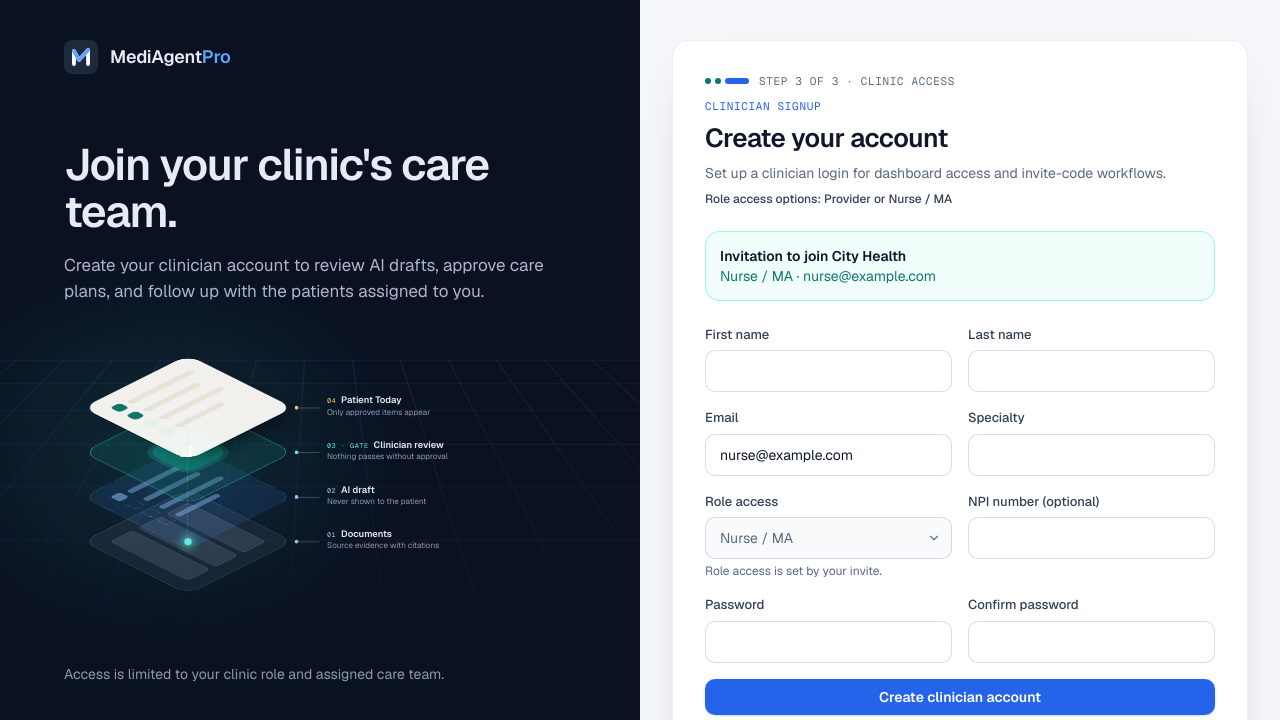
Test: Clinician signup page › keeps a created account when the claim is still pending
Expected: the text "Invitation to join City Health" is shown, [720, 246, 906, 264]
Type "Ana" into the field labelled "First name" at point(828, 371), box [705, 350, 952, 392]
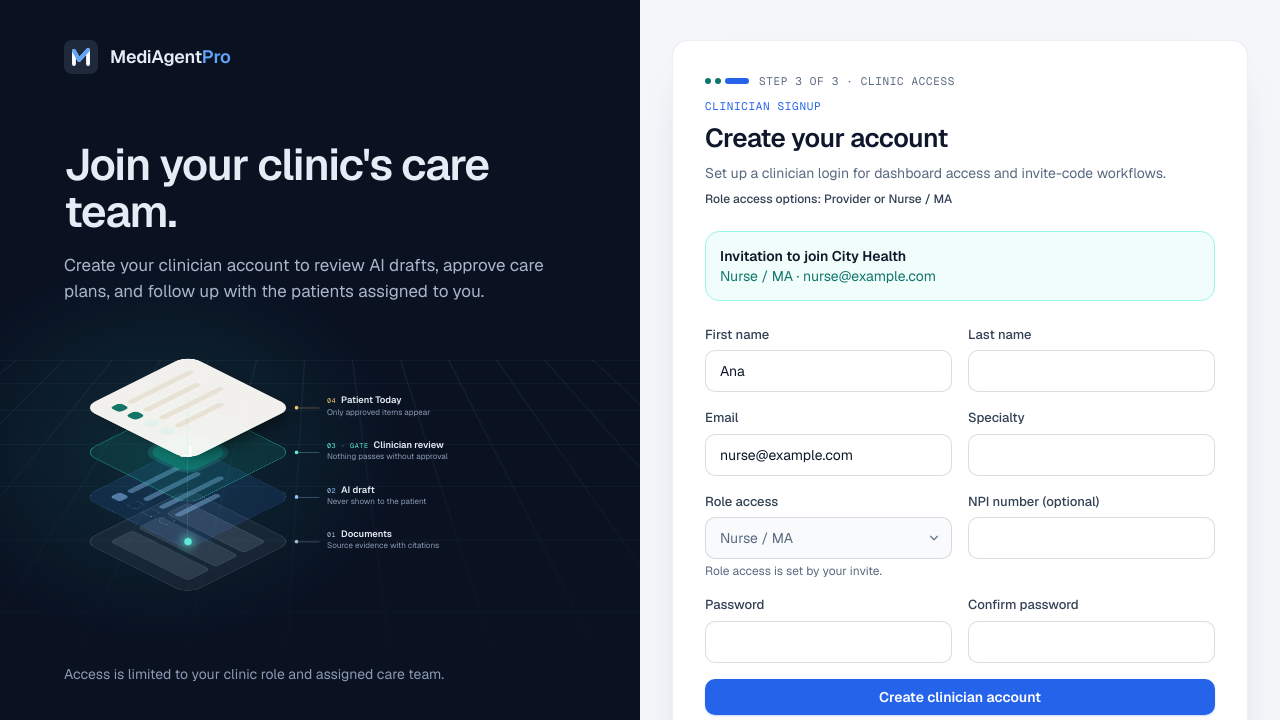
Type "Ruiz" into the field labelled "Last name" at point(1092, 371), box [968, 350, 1215, 392]
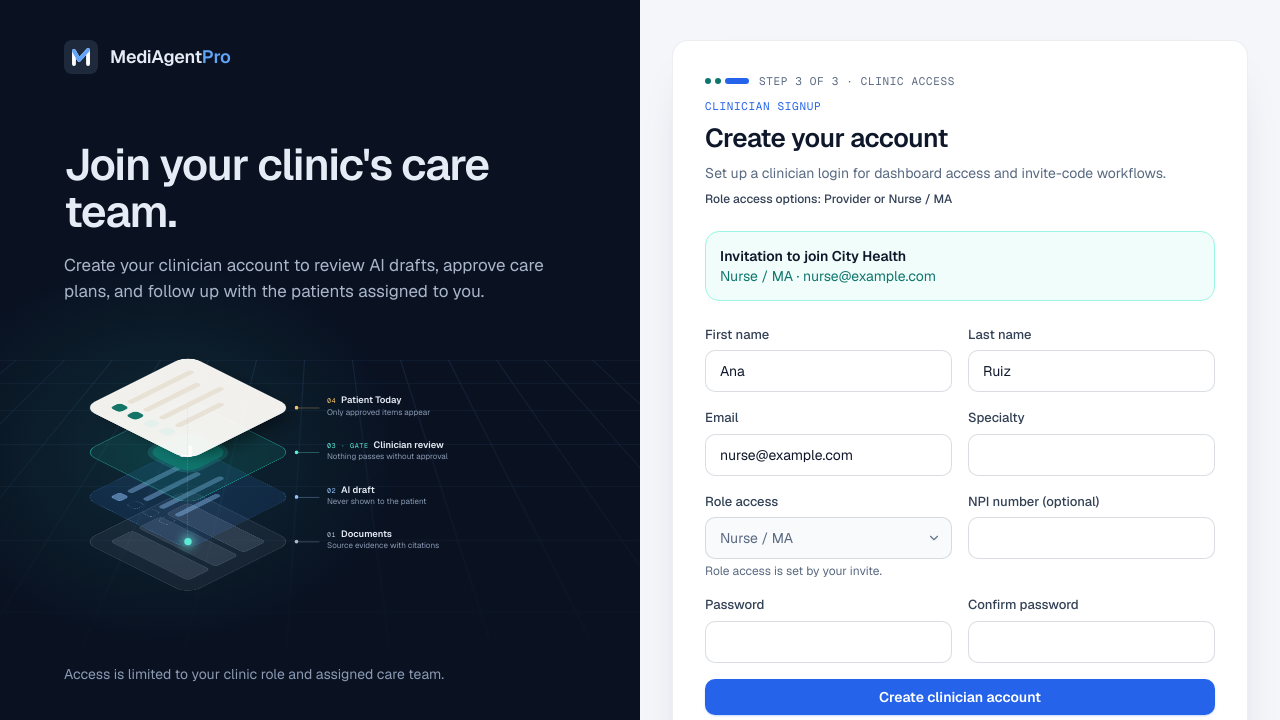
Type "Primary Care" into the field labelled "Specialty" at point(1092, 454), box [968, 434, 1215, 476]
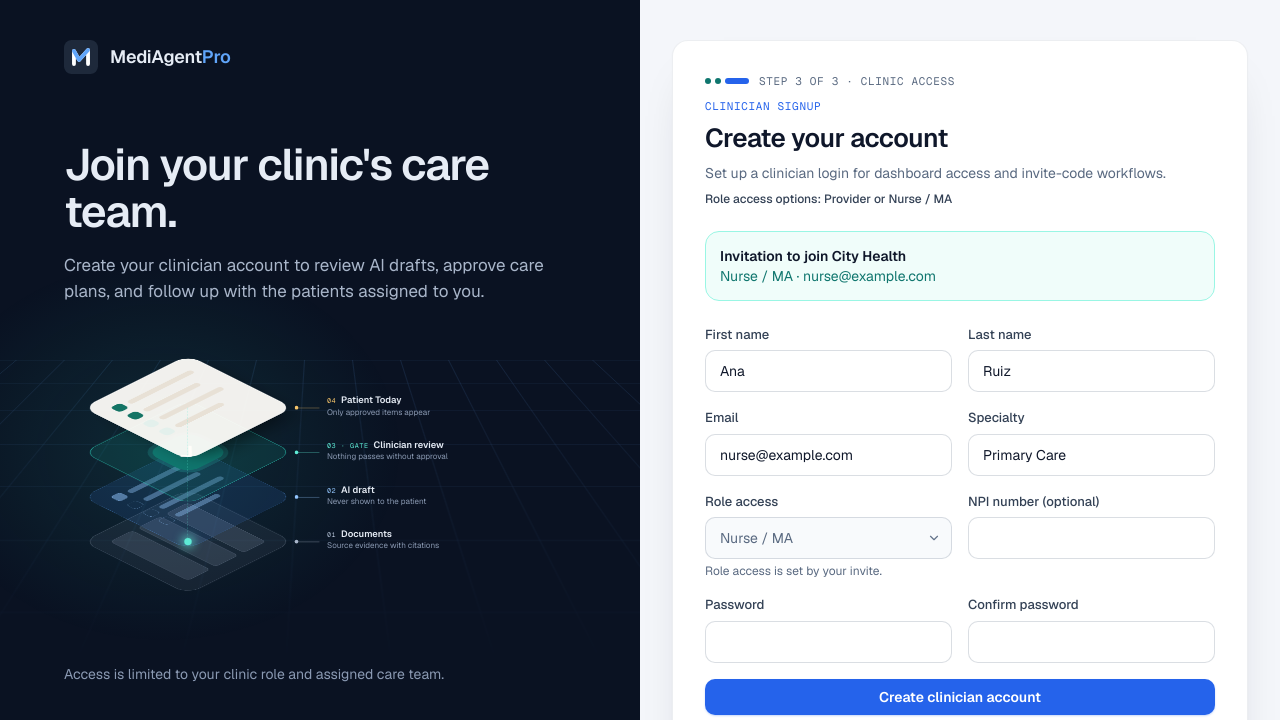
Type "SecurePass123!" into the password field labelled "Password" at point(828, 642), box [705, 620, 952, 662]
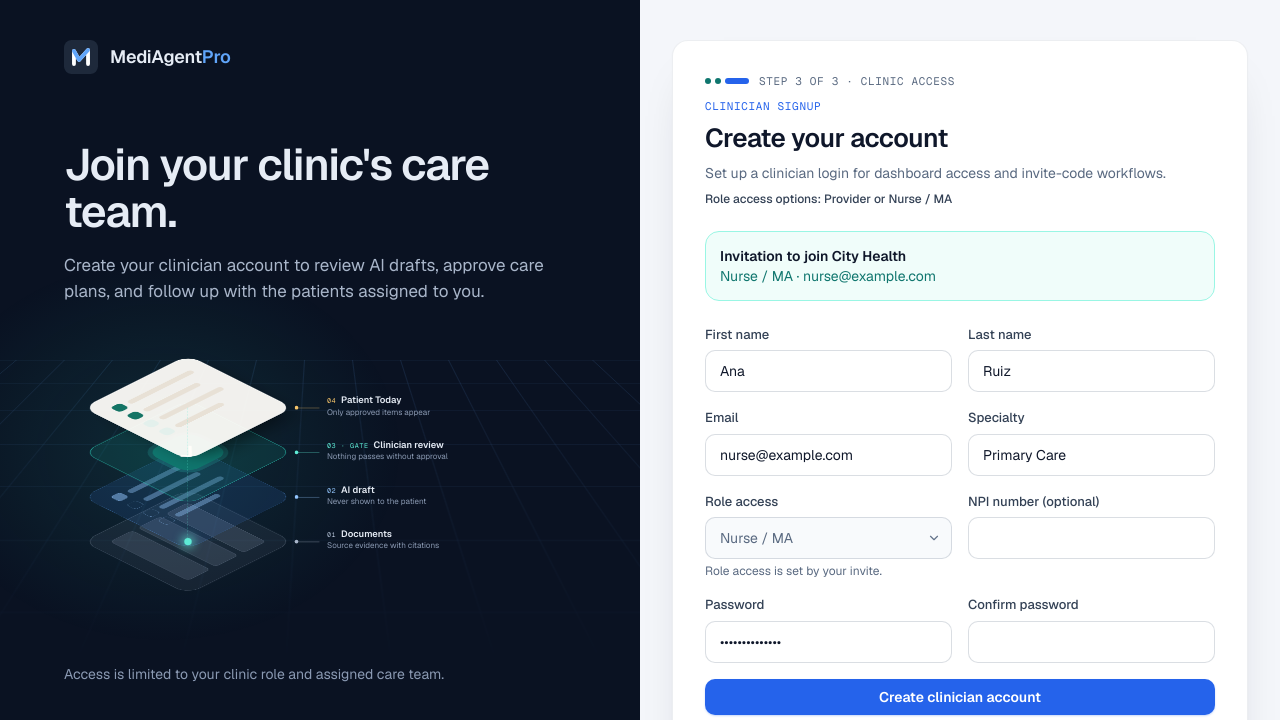
Type "SecurePass123!" into the password field labelled "Confirm password" at point(1092, 642), box [968, 620, 1215, 662]
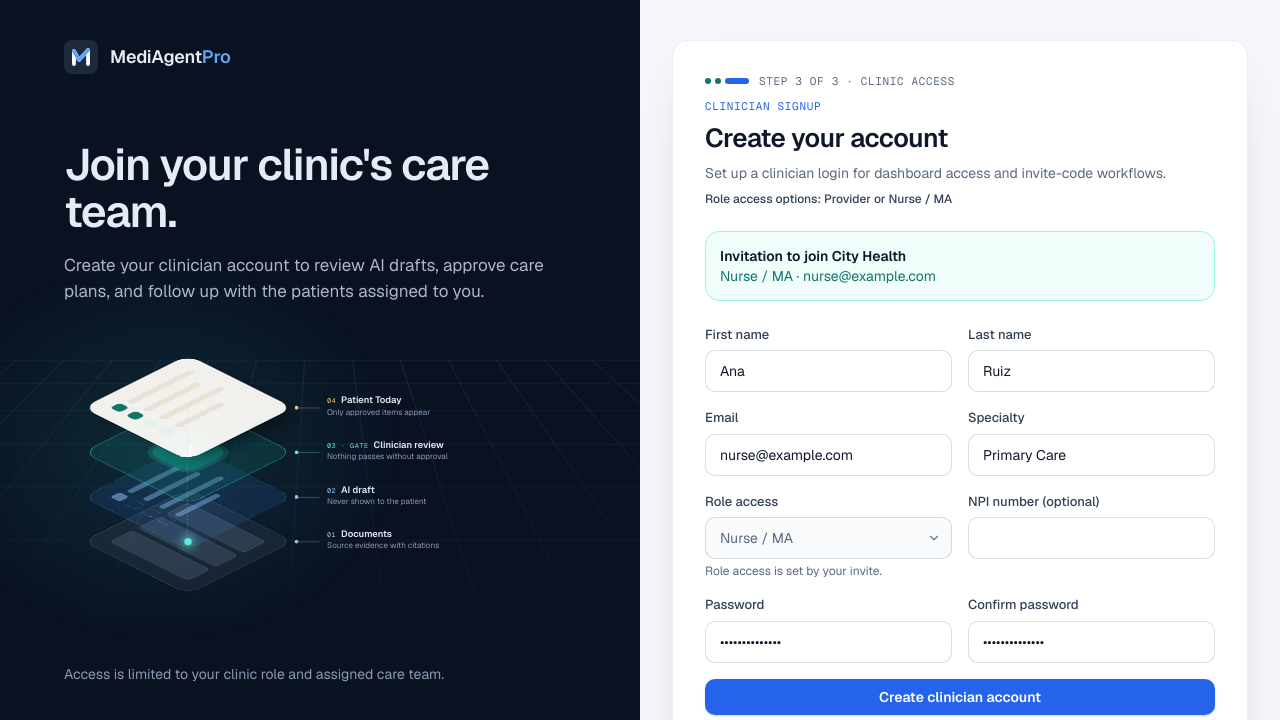
Click the button "Create clinician account" at point(960, 696), box [705, 678, 1215, 714]
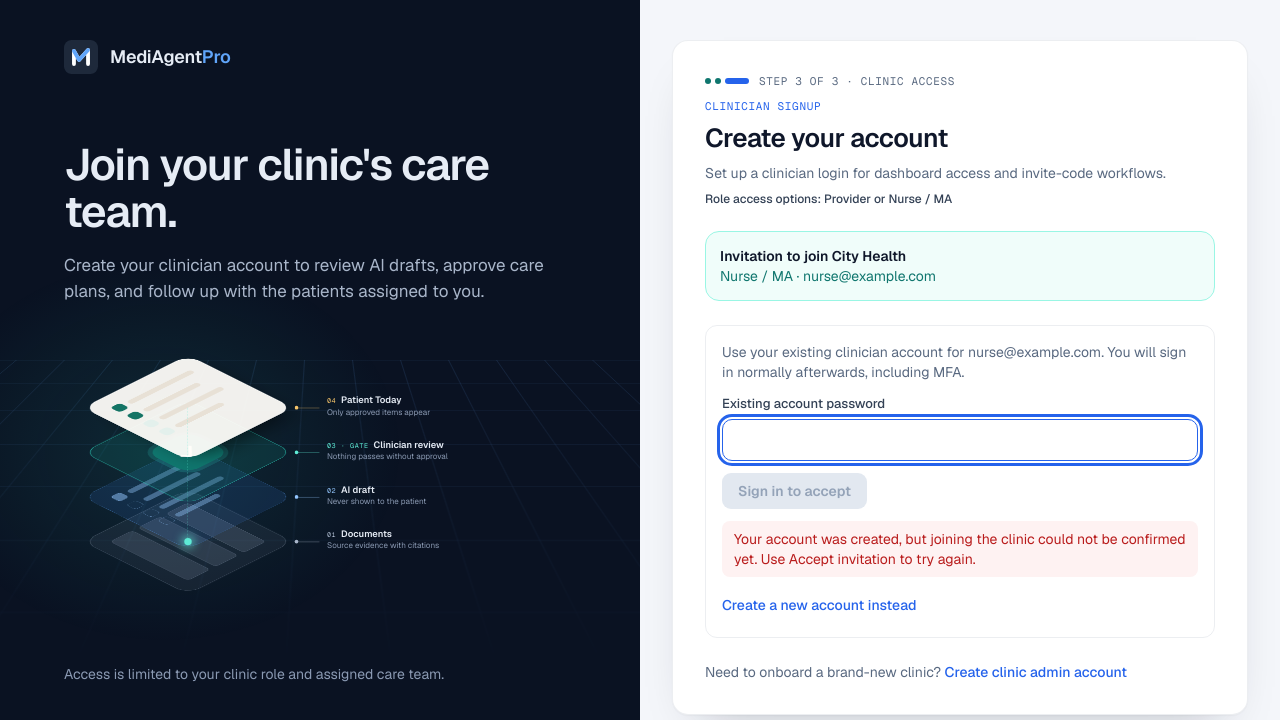
Now the message shows "account was created", box [734, 530, 1186, 568]
Now the button "Create clinician account" is gone
Now the button "Create a new account instead" is shown, box [722, 589, 916, 621]
